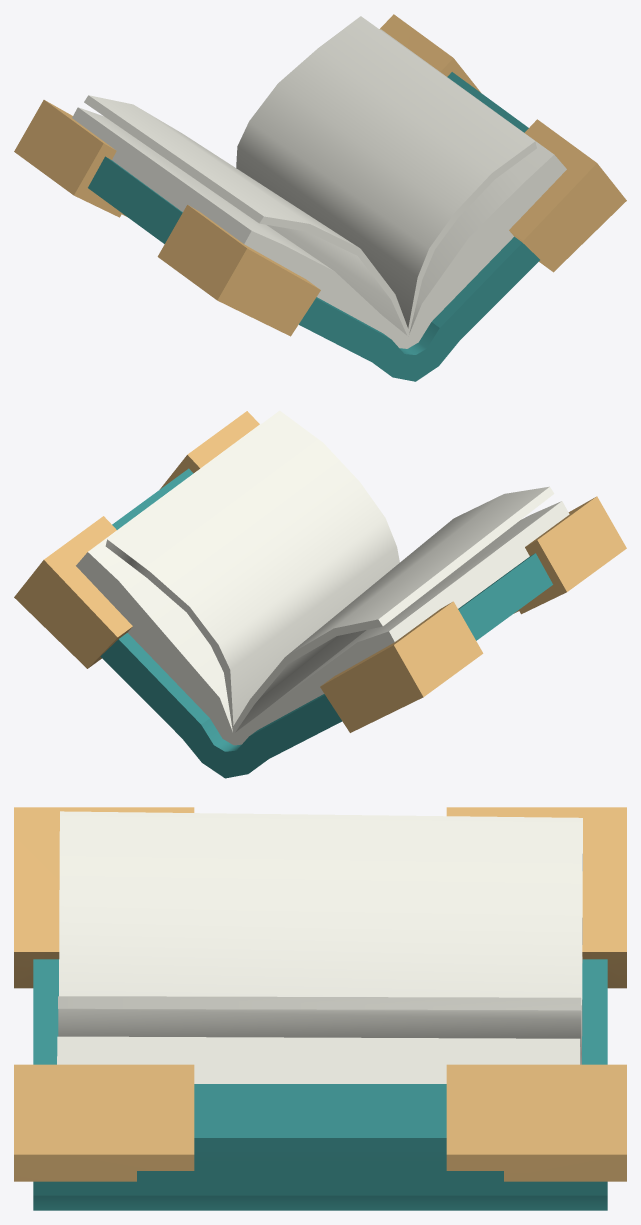
File: Wield_Gear_Right_17.fbx
The picture shows the model from 3 angles, top to bottom: view 1: azimuth 30°, elevation 25°; view 2: azimuth 150°, elevation 25°; view 3: azimuth 270°, elevation 25°; orthographic projection. The views are drawn at different scales.
Parts seen in each view (by area): view 1: Wield_Gear_Right_17; view 2: Wield_Gear_Right_17; view 3: Wield_Gear_Right_17.
Part boxes in pixels (left/top/right/bottom): Wield_Gear_Right_17: left=14, top=14, right=626, bottom=381; Wield_Gear_Right_17: left=14, top=410, right=626, bottom=778; Wield_Gear_Right_17: left=14, top=807, right=626, bottom=1210.
Bounding box in the file's own units: 29.49 × 13.99 × 25.35.
